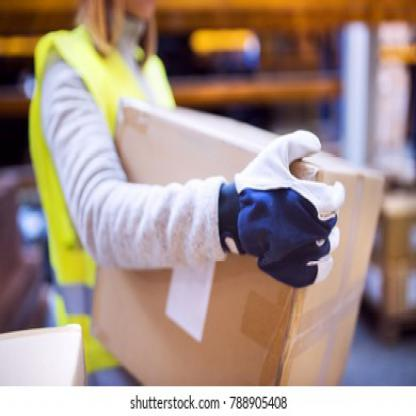with_gloves: (218, 128, 348, 290)
